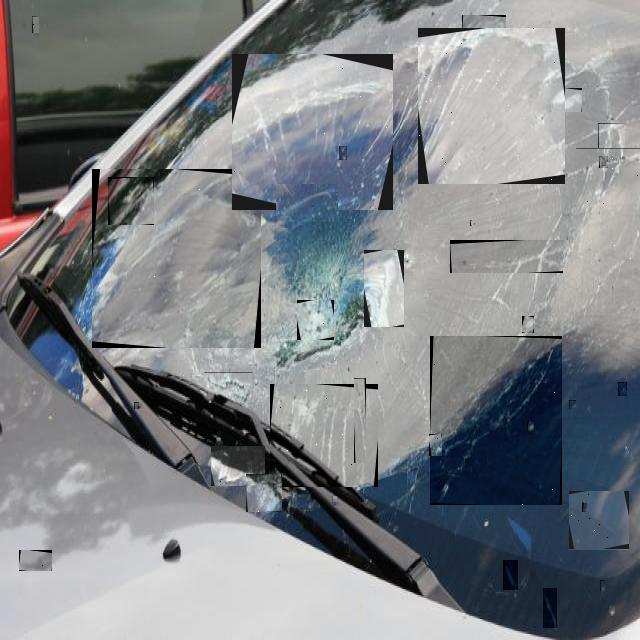Dent: (92, 169, 261, 348), (232, 54, 393, 210), (418, 29, 565, 184), (430, 336, 562, 505), (270, 384, 378, 487), (576, 148, 640, 309), (450, 240, 563, 273), (569, 492, 629, 552), (364, 250, 404, 327), (276, 184, 338, 222), (108, 177, 154, 225), (211, 446, 265, 486), (243, 112, 276, 166), (598, 123, 625, 186), (204, 372, 252, 403), (297, 300, 334, 340), (462, 15, 506, 48), (246, 474, 282, 512), (338, 398, 351, 486), (354, 378, 366, 463), (551, 89, 582, 112), (19, 550, 52, 571), (543, 588, 557, 628), (503, 560, 518, 590), (233, 201, 254, 222), (429, 434, 442, 456), (442, 480, 452, 502), (522, 316, 534, 333), (550, 169, 562, 183), (174, 266, 185, 280), (618, 382, 627, 396), (32, 16, 39, 33), (339, 146, 347, 160), (599, 156, 608, 168), (620, 151, 628, 159), (535, 120, 542, 129), (569, 400, 576, 409), (527, 421, 534, 430), (608, 606, 615, 614), (600, 580, 605, 591), (402, 253, 408, 261), (332, 496, 337, 504), (582, 504, 587, 512), (470, 220, 475, 227), (134, 402, 139, 409)
